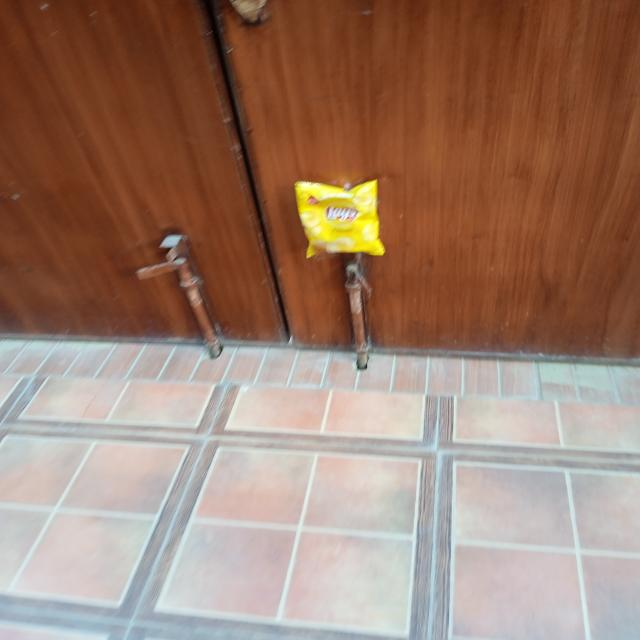Plastic: (287, 172, 390, 262)
